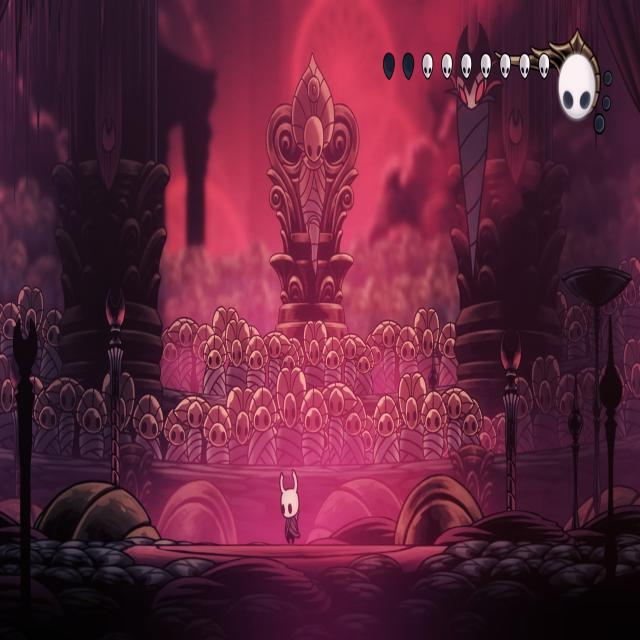Dive Dash: (442, 17, 503, 295)
Player: (276, 463, 302, 546)
